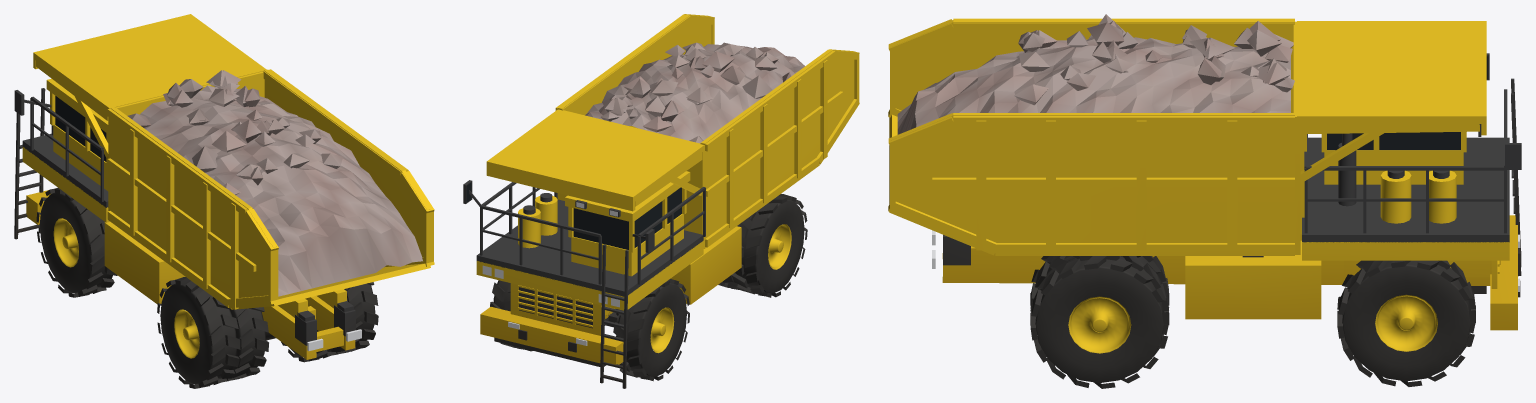
Rendered from quarry-dump-truck.glb.
3 views of the same model, side by side, from view 1: azimuth 30°, elevation 25°; view 2: azimuth 150°, elevation 25°; view 3: azimuth 270°, elevation 25° (orthographic). The views are drawn at different scales.
Parts seen in each view (by area): view 1: dump_bed, load, chassis, wheel_rear_left_1, wheel_front_left, wheel_rear_left_2, wheel_rear_right_1; view 2: dump_bed, chassis, load, wheel_rear_left_1, wheel_front_left, wheel_front_right; view 3: dump_bed, chassis, load, wheel_rear_right_1, wheel_front_right, wheel_rear_right_2.
Part boxes in pixels (bbox=[...]): dump_bed: bbox=[33, 14, 434, 321]; load: bbox=[127, 70, 422, 296]; chassis: bbox=[14, 78, 361, 359]; wheel_rear_left_1: bbox=[157, 277, 240, 388]; wheel_front_left: bbox=[36, 187, 117, 297]; wheel_rear_left_2: bbox=[227, 307, 268, 381]; wheel_rear_right_1: bbox=[336, 282, 378, 354]; dump_bed: bbox=[486, 14, 859, 248]; chassis: bbox=[463, 171, 741, 388]; load: bbox=[585, 42, 804, 143]; wheel_rear_left_1: bbox=[732, 194, 807, 297]; wheel_front_left: bbox=[613, 278, 689, 381]; wheel_front_right: bbox=[490, 280, 532, 351]; dump_bed: bbox=[888, 18, 1486, 255]; chassis: bbox=[932, 53, 1521, 330]; load: bbox=[897, 14, 1294, 134]; wheel_rear_right_1: bbox=[1030, 256, 1169, 388]; wheel_front_right: bbox=[1337, 260, 1475, 386]; wheel_rear_right_2: bbox=[1030, 256, 1169, 312].
Size of the model in its own units: 3.83 by 4.86 by 9.08.
